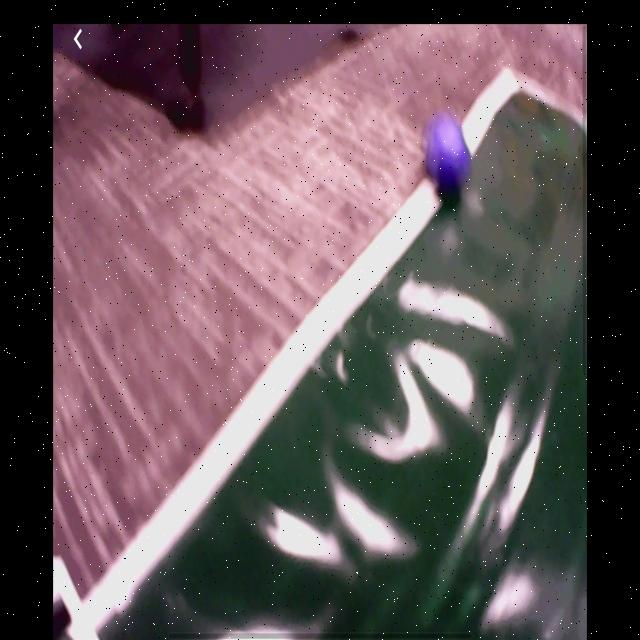ball: (425, 117, 473, 199)
